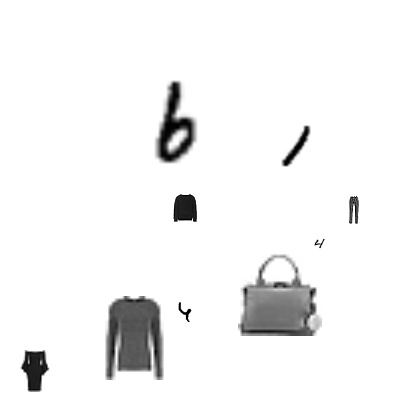1: (268, 118, 324, 174)
4: (170, 298, 198, 326), (312, 236, 326, 250)
6: (116, 70, 228, 182)
Bag: (238, 252, 322, 336)
Dress: (13, 350, 55, 392)
Pullover: (91, 296, 175, 380), (171, 194, 199, 222)
Trouser: (340, 196, 368, 224)
